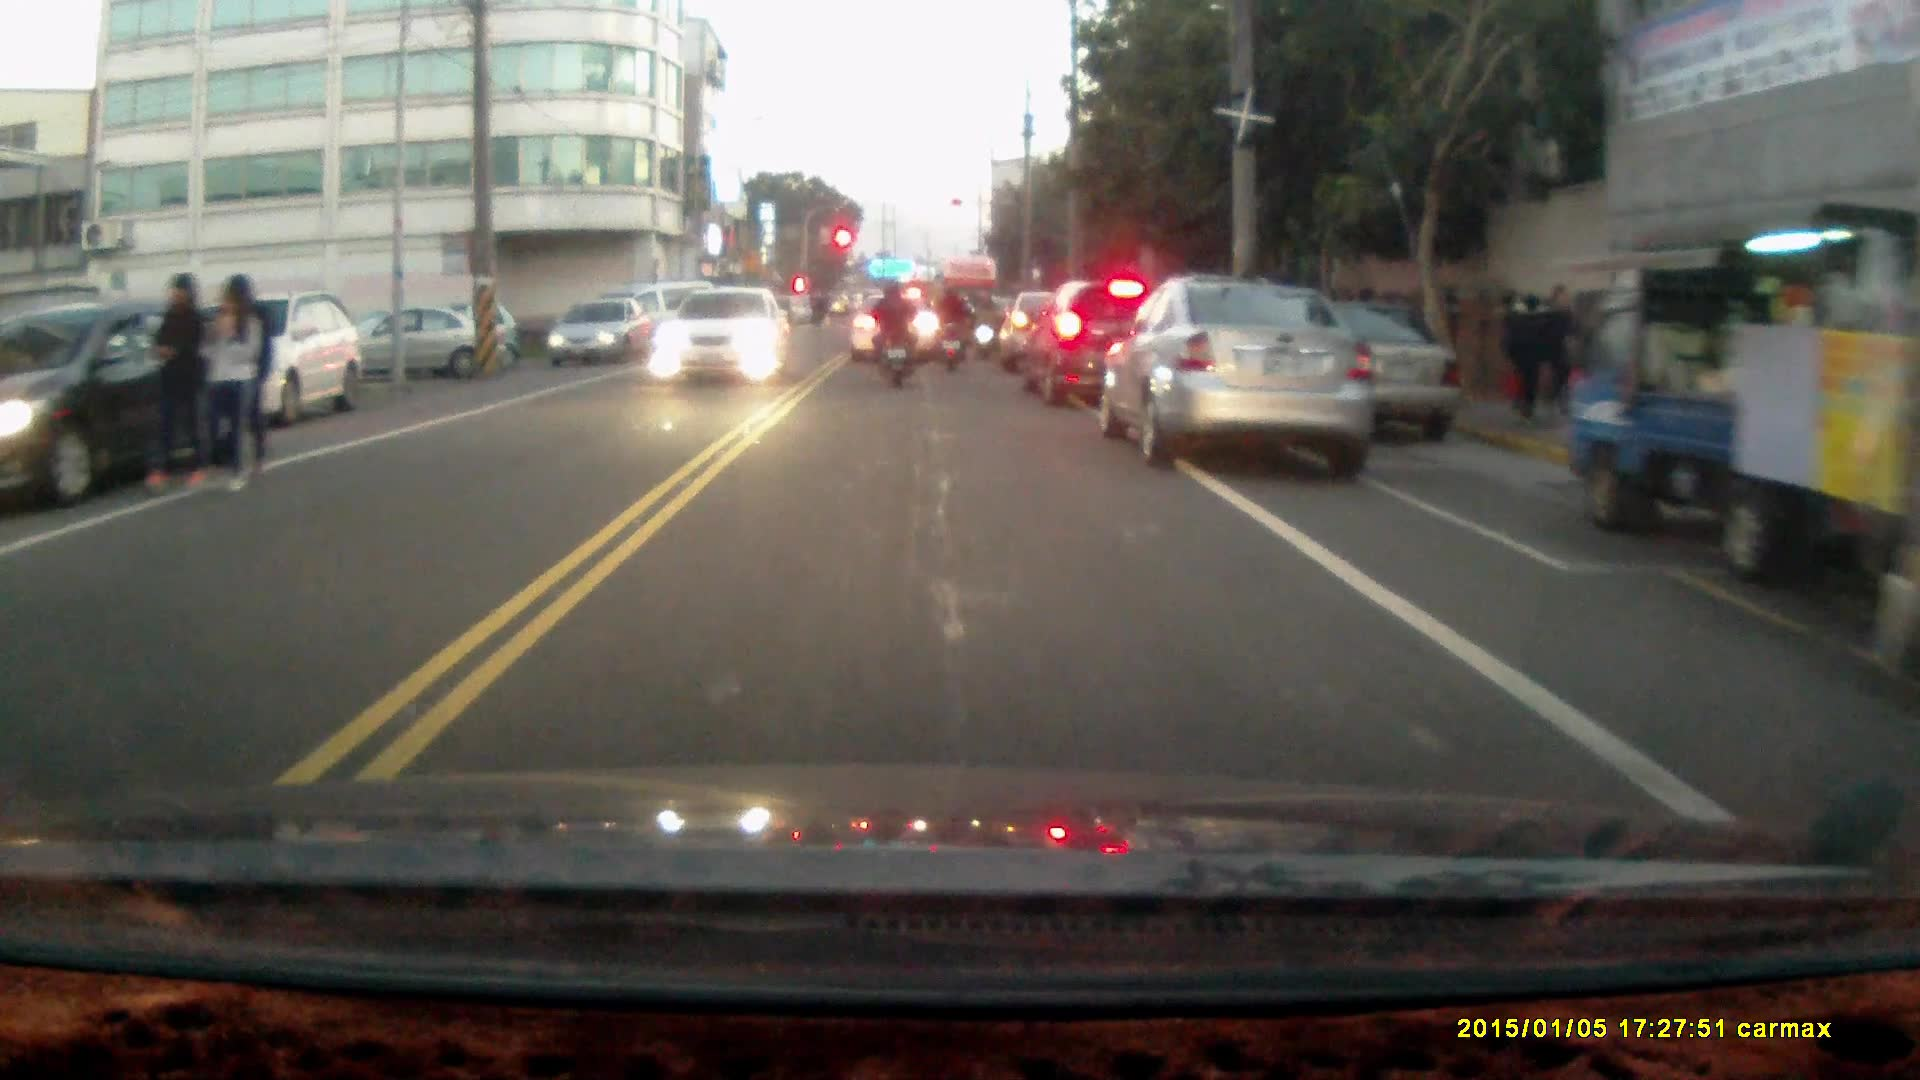pedestrian: (193, 273, 259, 500), (145, 266, 206, 493), (1534, 283, 1581, 424), (1504, 289, 1550, 425)
rider: (867, 278, 915, 389), (930, 279, 975, 374)
vehicle: (1559, 218, 1920, 587), (1, 298, 255, 517), (1108, 277, 1375, 471), (175, 290, 362, 430), (1028, 279, 1172, 409), (648, 286, 787, 385), (545, 298, 646, 365), (851, 293, 943, 363)
